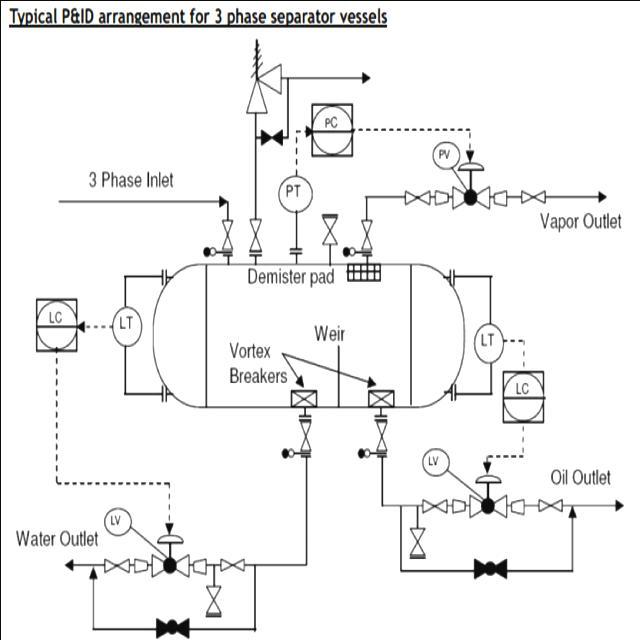Closed Ball Valve: (464, 540, 512, 592), (152, 611, 194, 640)
Closed Gate Valve: (258, 120, 282, 154)
Gate Valve: (534, 488, 564, 516), (421, 489, 448, 519), (322, 210, 340, 248), (102, 554, 130, 578), (295, 418, 314, 452), (218, 548, 250, 568), (247, 218, 264, 254), (372, 418, 388, 453), (402, 188, 432, 204), (522, 184, 544, 204)
PSV: (238, 38, 285, 126)
Pneumatic-Diaphragm Globe Valve: (448, 154, 493, 228), (148, 526, 192, 584)
